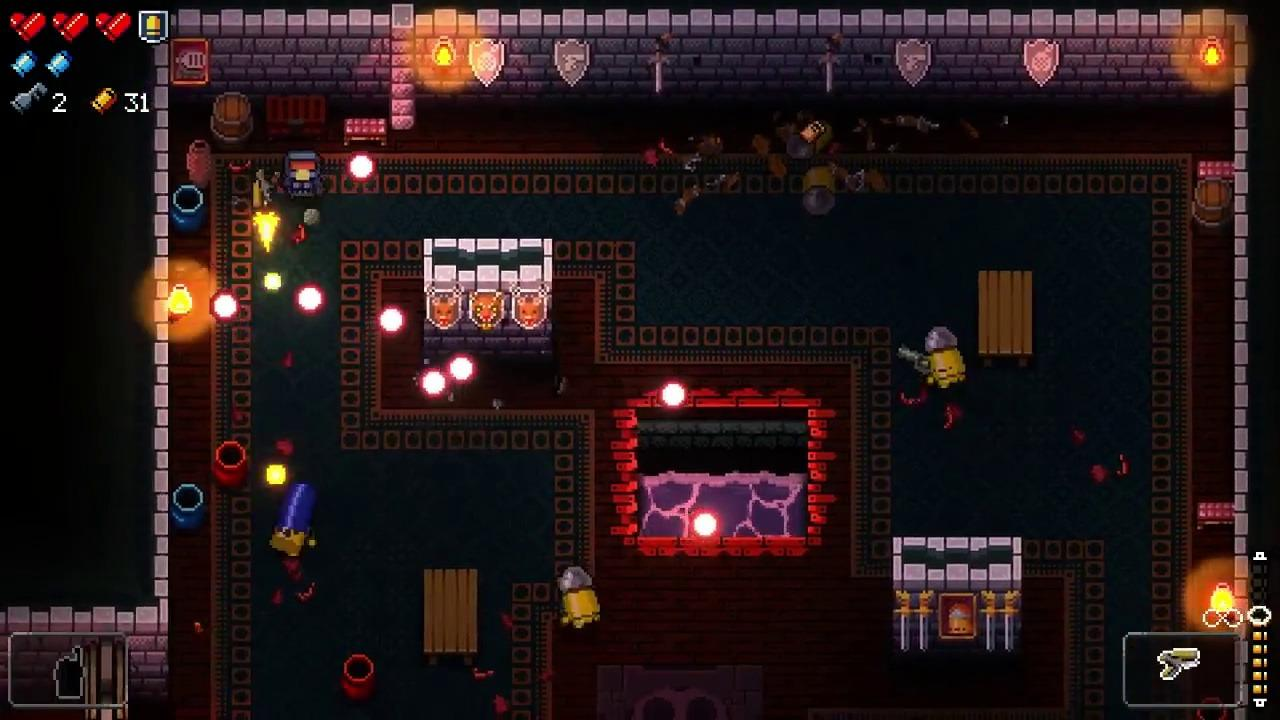blue_shotgun_kin: (269, 480, 316, 559)
bullet: (205, 288, 239, 323), (417, 367, 450, 398), (446, 353, 477, 386), (296, 284, 325, 319), (376, 305, 409, 335), (688, 510, 722, 538), (347, 153, 376, 183), (658, 381, 687, 410)
bullet_kin: (557, 566, 602, 632), (925, 327, 967, 393)
dead_bullet_kin: (802, 164, 835, 214)
player: (283, 150, 327, 202)
table: (424, 567, 479, 668), (978, 271, 1033, 369)
water_pit: (609, 387, 842, 560)
